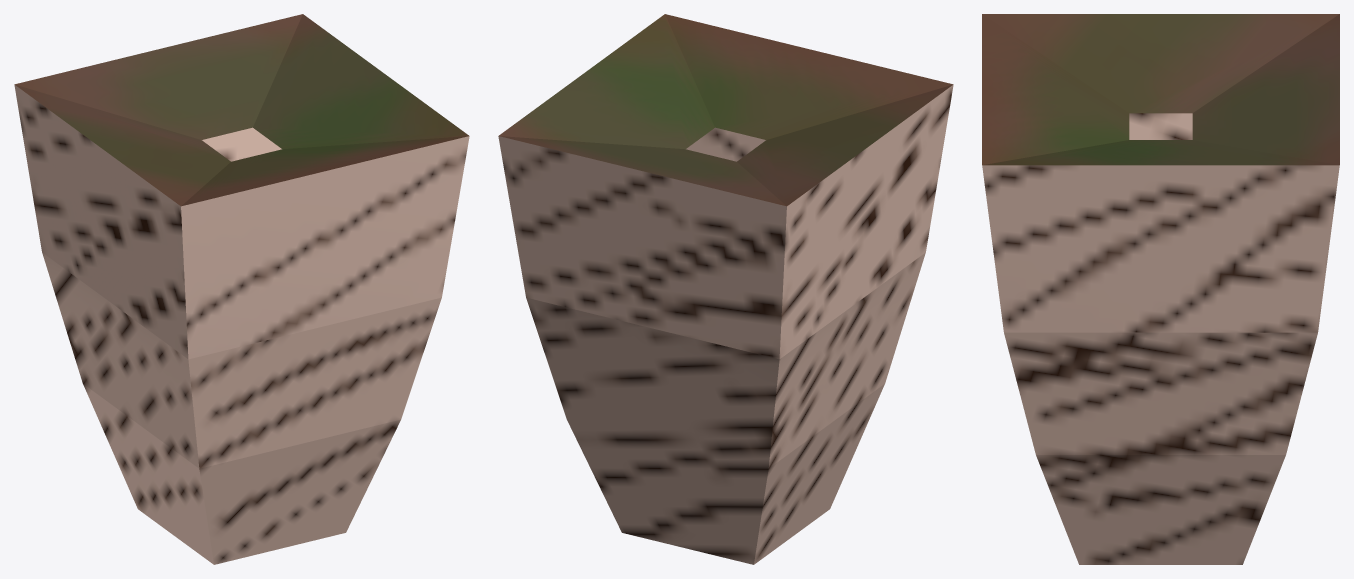
Rendered from Vaso3.fbx.
3 views of the same model, side by side, from view 1: azimuth 30°, elevation 25°; view 2: azimuth 150°, elevation 25°; view 3: azimuth 270°, elevation 25° (orthographic). The views are drawn at different scales.
Parts seen in each view (by area): view 1: Vaso3; view 2: Vaso3; view 3: Vaso3.
Part boxes in pixels (x1=…): Vaso3: x1=14, y1=14, x2=469, y2=564; Vaso3: x1=498, y1=14, x2=953, y2=564; Vaso3: x1=982, y1=14, x2=1339, y2=564.
Size of the model in its own units: 186 by 253 by 186.
Materials: 1 (1 with a texture image).
